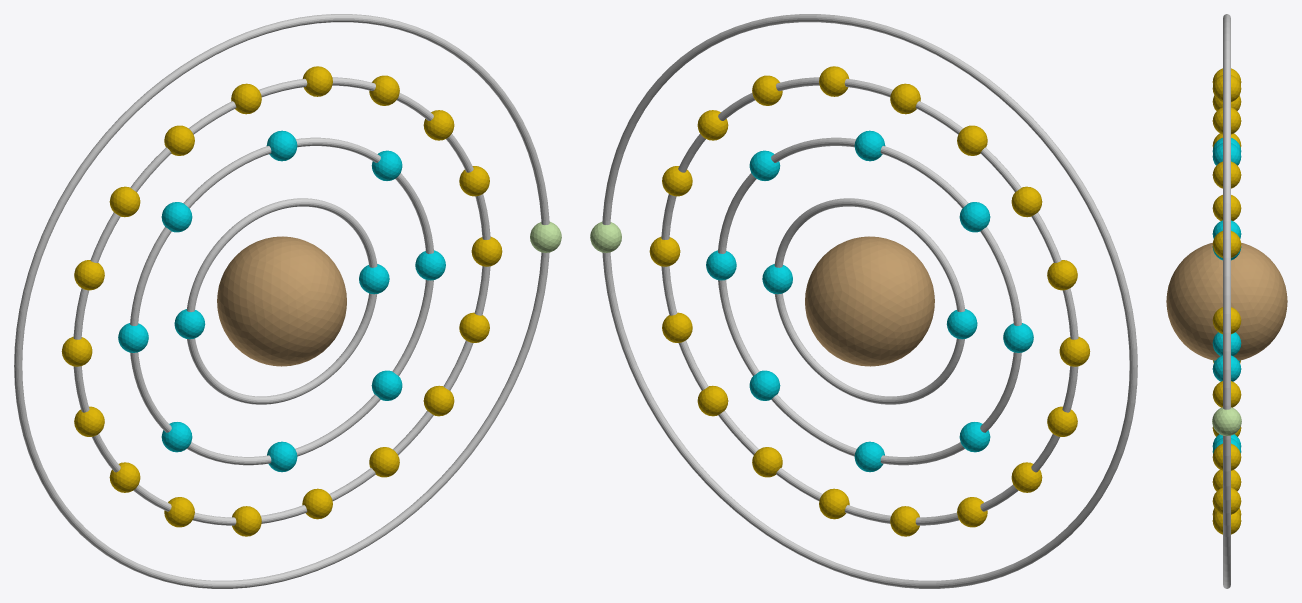
3 views of the same model, side by side, from view 1: azimuth 30°, elevation 25°; view 2: azimuth 150°, elevation 25°; view 3: azimuth 270°, elevation 25° (orthographic). The views are drawn at different scales.
Visible parts, largest first — view 1: Camada_4, Nucleo_Cu, Camada_3, Camada_2, Camada_1, e4_1, e2_4, e3_7, e3_8, e3_16, e3_9, e3_17 (+22 smaller); view 2: Camada_4, Nucleo_Cu, Camada_3, Camada_2, Camada_1, e4_1, e2_4, e3_7, e3_8, e3_16, e3_9, e3_17 (+22 smaller); view 3: Nucleo_Cu, Camada_4, e4_1, e3_4, e3_2, e3_17, e3_18, e3_5, e3_3, e2_1, e3_1, e3_6 (+7 smaller).
Part boxes in pixels (left/top/right/bottom): Camada_4: left=14, top=14, right=549, bottom=588; Nucleo_Cu: left=217, top=236, right=346, bottom=366; Camada_3: left=73, top=77, right=490, bottom=525; Camada_2: left=130, top=137, right=433, bottom=465; Camada_1: left=186, top=198, right=377, bottom=404; e4_1: left=530, top=222, right=561, bottom=252; e2_4: left=161, top=202, right=192, bottom=232; e3_7: left=164, top=125, right=194, bottom=155; e3_8: left=109, top=186, right=140, bottom=217; e3_16: left=369, top=447, right=399, bottom=477; e3_9: left=74, top=260, right=104, bottom=290; e3_17: left=423, top=385, right=454, bottom=416; Camada_4: left=602, top=14, right=1137, bottom=588; Nucleo_Cu: left=805, top=236, right=934, bottom=366; Camada_3: left=661, top=77, right=1078, bottom=525; Camada_2: left=718, top=137, right=1021, bottom=465; Camada_1: left=774, top=198, right=965, bottom=404; e4_1: left=590, top=222, right=621, bottom=252; e2_4: left=959, top=202, right=990, bottom=232; e3_7: left=957, top=125, right=987, bottom=155; e3_8: left=1011, top=186, right=1042, bottom=217; e3_16: left=752, top=447, right=782, bottom=477; e3_9: left=1047, top=260, right=1077, bottom=290; e3_17: left=697, top=385, right=728, bottom=416; Nucleo_Cu: left=1166, top=242, right=1287, bottom=360; Camada_4: left=1223, top=14, right=1230, bottom=588; e4_1: left=1212, top=407, right=1241, bottom=435; e3_4: left=1212, top=161, right=1241, bottom=188; e3_2: left=1212, top=307, right=1241, bottom=334; e3_17: left=1212, top=487, right=1241, bottom=514; e3_18: left=1212, top=443, right=1241, bottom=470; e3_5: left=1212, top=107, right=1241, bottom=134; e3_3: left=1212, top=231, right=1241, bottom=257; e2_1: left=1212, top=355, right=1241, bottom=381; e3_1: left=1212, top=381, right=1241, bottom=407; e3_6: left=1212, top=75, right=1241, bottom=101.
Size of the model in its own units: 2.13 by 2.09 by 0.44.
